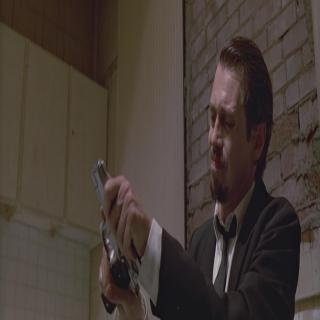gun: (83, 156, 146, 320)
